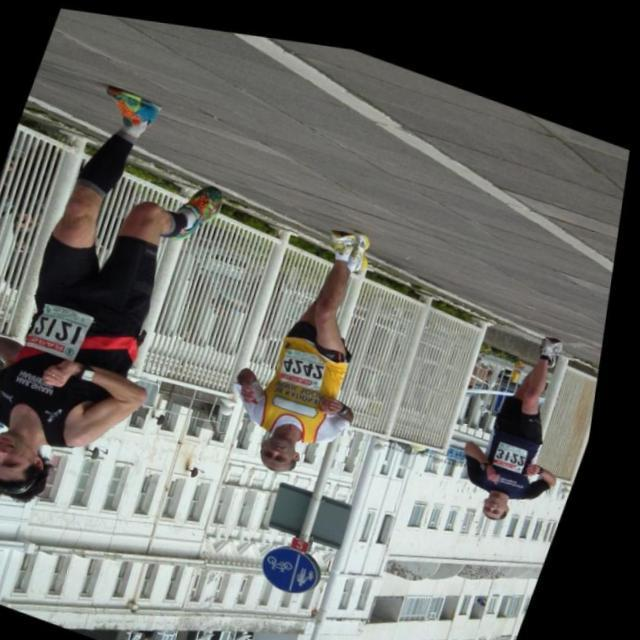dorsal: (20, 280, 121, 371), (274, 324, 352, 396), (491, 411, 560, 472)
